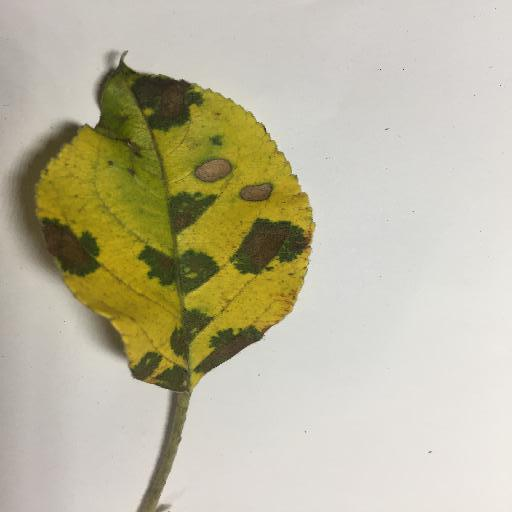Brown_Spot: (41, 216, 95, 270), (127, 80, 193, 122), (240, 220, 297, 265), (194, 335, 258, 370), (198, 163, 230, 179), (169, 208, 195, 222), (243, 186, 272, 198), (155, 252, 175, 268)
